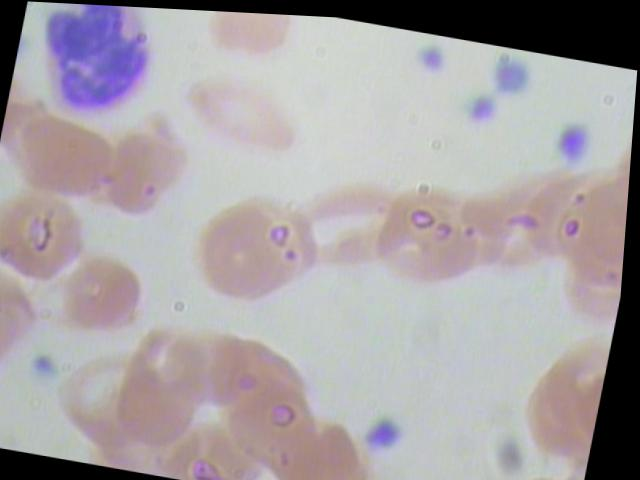Platelets: (540, 104, 602, 168), (481, 45, 541, 99), (361, 409, 419, 454), (402, 32, 459, 74), (464, 83, 505, 122), (31, 347, 67, 380)
Red Blood Cells: (193, 181, 337, 309), (357, 175, 498, 293), (94, 97, 206, 229), (282, 174, 413, 283), (172, 65, 313, 165), (0, 100, 126, 209), (0, 182, 102, 297), (62, 247, 162, 341), (178, 7, 311, 75)
White Blood Cells: (12, 1, 169, 135)
